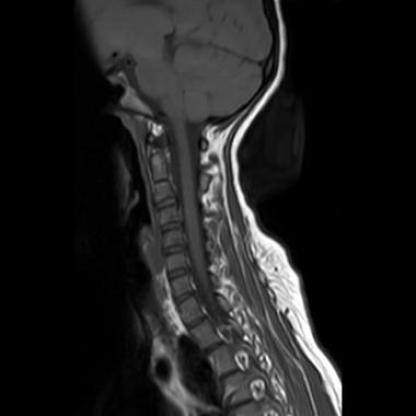Disc Bulgerotation: (162, 244, 190, 257), (164, 267, 193, 279), (173, 291, 197, 303)
